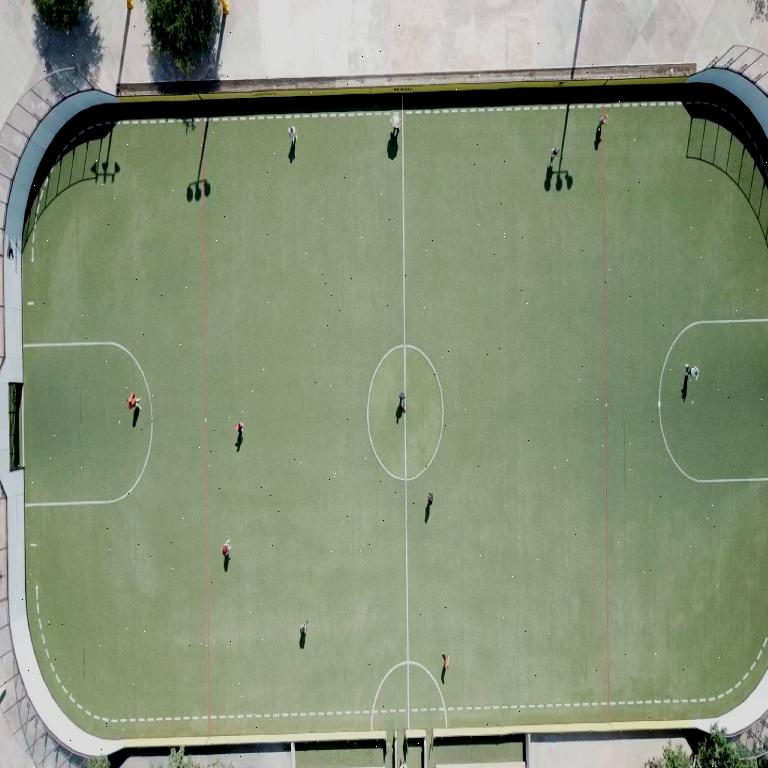AC: (19, 339, 150, 506)
B: (399, 407, 404, 413)
MC: (399, 110, 408, 709)
P: (219, 541, 230, 557)
